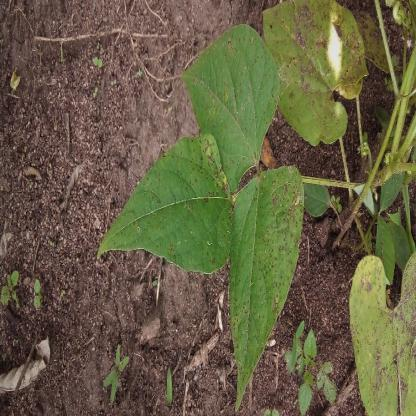Beans_Rust: (233, 170, 305, 410), (103, 138, 230, 268), (185, 25, 277, 196), (272, 1, 366, 140), (348, 249, 415, 410)
